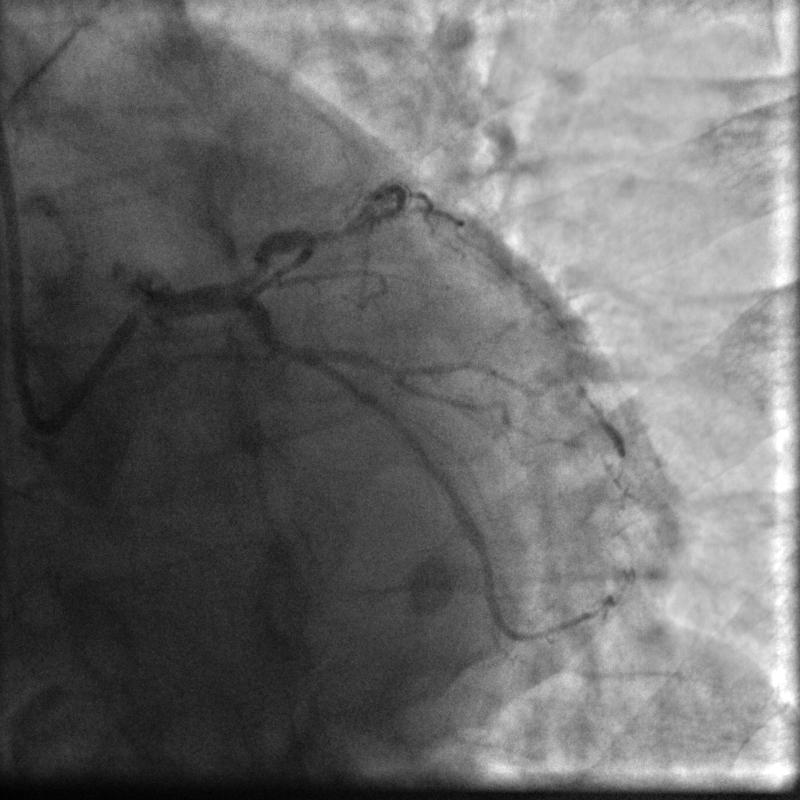Stenosis: (227, 244, 277, 294)
